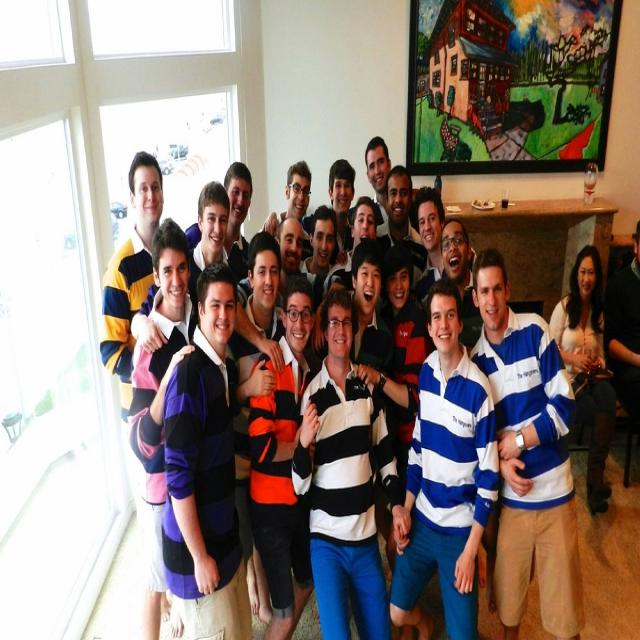body: (461, 237, 586, 639), (287, 280, 408, 639), (387, 267, 501, 639), (100, 150, 175, 625), (160, 259, 253, 640), (422, 216, 503, 616), (126, 214, 200, 640), (246, 275, 316, 639), (226, 228, 290, 625), (357, 243, 428, 498), (548, 244, 614, 518), (233, 216, 304, 376), (413, 183, 478, 320), (602, 220, 640, 445), (184, 160, 252, 276), (348, 237, 392, 400), (185, 179, 232, 321), (257, 159, 315, 272), (364, 134, 418, 236), (323, 196, 377, 297), (297, 202, 337, 314), (372, 162, 426, 244), (325, 157, 357, 268)
